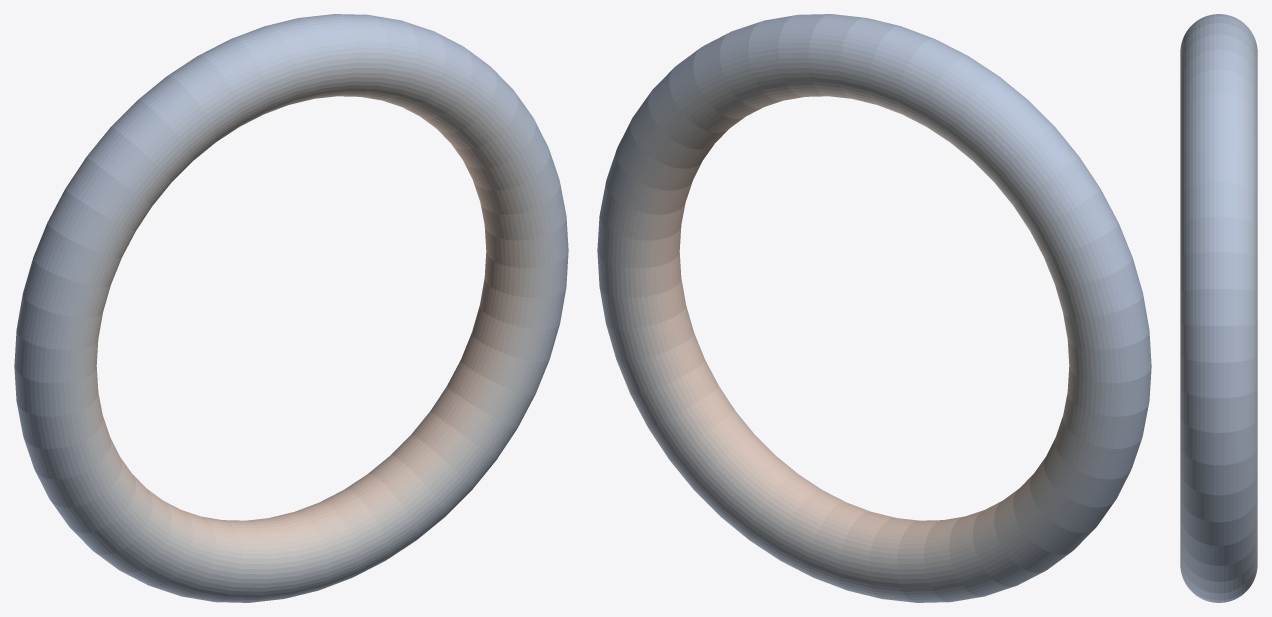
3 views of the same model, side by side, from view 1: azimuth 30°, elevation 25°; view 2: azimuth 150°, elevation 25°; view 3: azimuth 270°, elevation 25° (orthographic). The views are drawn at different scales.
Visible parts, largest first — view 1: world; view 2: world; view 3: world.
Part boxes in pixels (box(x1,y1,x2,y2)): world: box(14, 14, 568, 602); world: box(597, 14, 1151, 602); world: box(1180, 14, 1257, 602).
Bounding box in the file's own units: 31.47 × 31.4 × 4.13.
